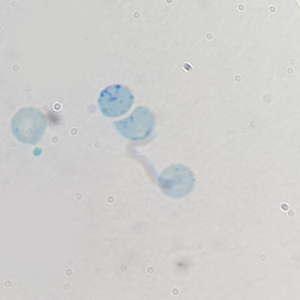aggregate reticulocyte: (96, 83, 136, 120)
punctate reticulocyte: (111, 104, 157, 141), (9, 105, 48, 147), (157, 162, 198, 200)
